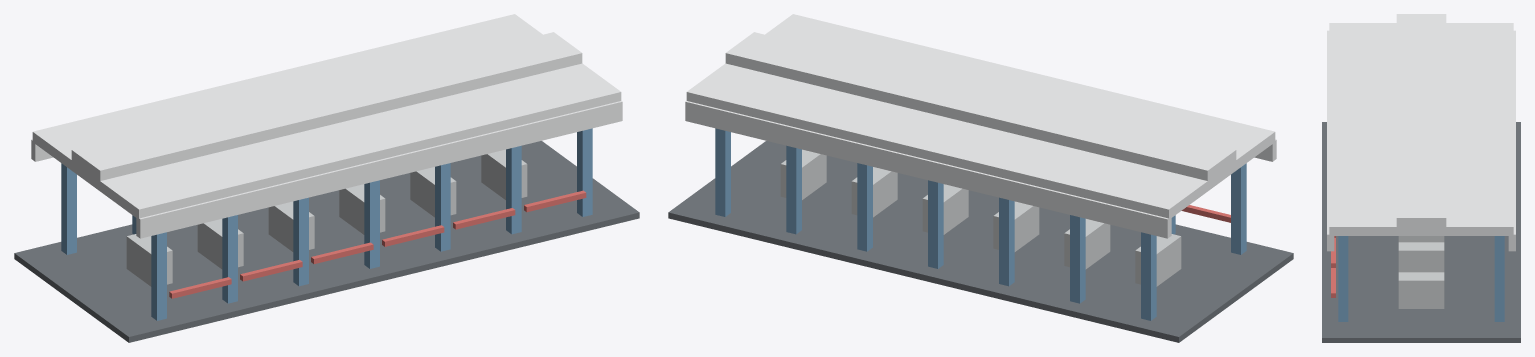
Rendered from toll-naka.glb.
3 renders of one model, left to right at view 1: azimuth 30°, elevation 25°; view 2: azimuth 150°, elevation 25°; view 3: azimuth 270°, elevation 25°, orthographic. The views are drawn at different scales.
Parts seen in each view (by area): view 1: toll-naka; view 2: toll-naka; view 3: toll-naka.
Part boxes in pixels (x1=…): toll-naka: x1=14, y1=14, x2=639, y2=342; toll-naka: x1=668, y1=14, x2=1293, y2=342; toll-naka: x1=1322, y1=14, x2=1520, y2=342.
Size of the model in its own units: 36 by 9.25 by 14.
